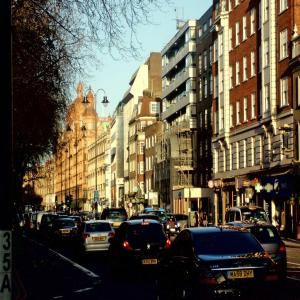Vehicle-registration-plate: (229, 270, 255, 279), (143, 259, 158, 265), (94, 238, 106, 242)
